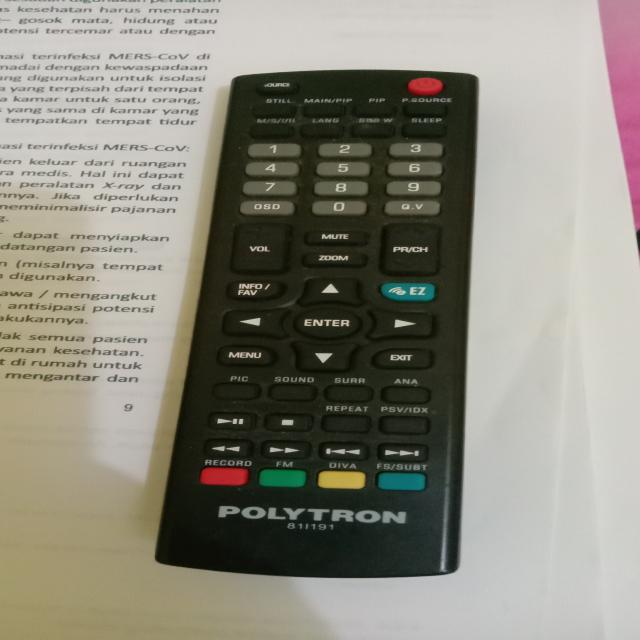remote: (151, 69, 485, 585)
